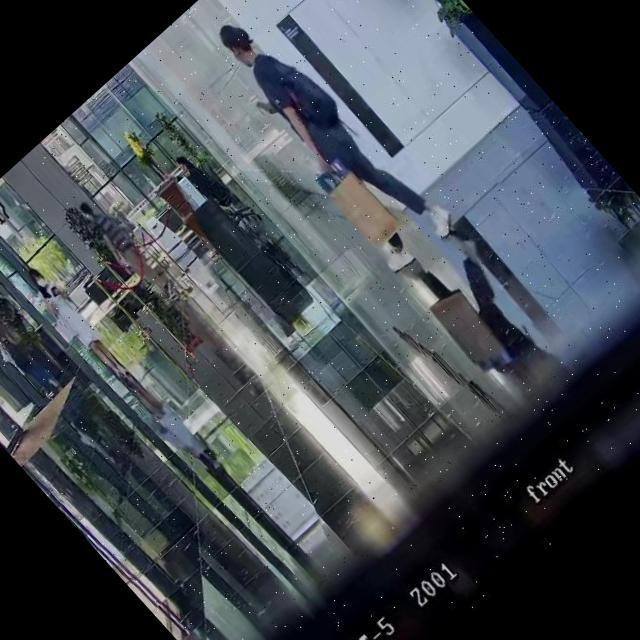person: (200, 0, 462, 274), (17, 262, 172, 429), (17, 262, 133, 386), (72, 192, 182, 309), (0, 314, 64, 404), (172, 150, 220, 200)
